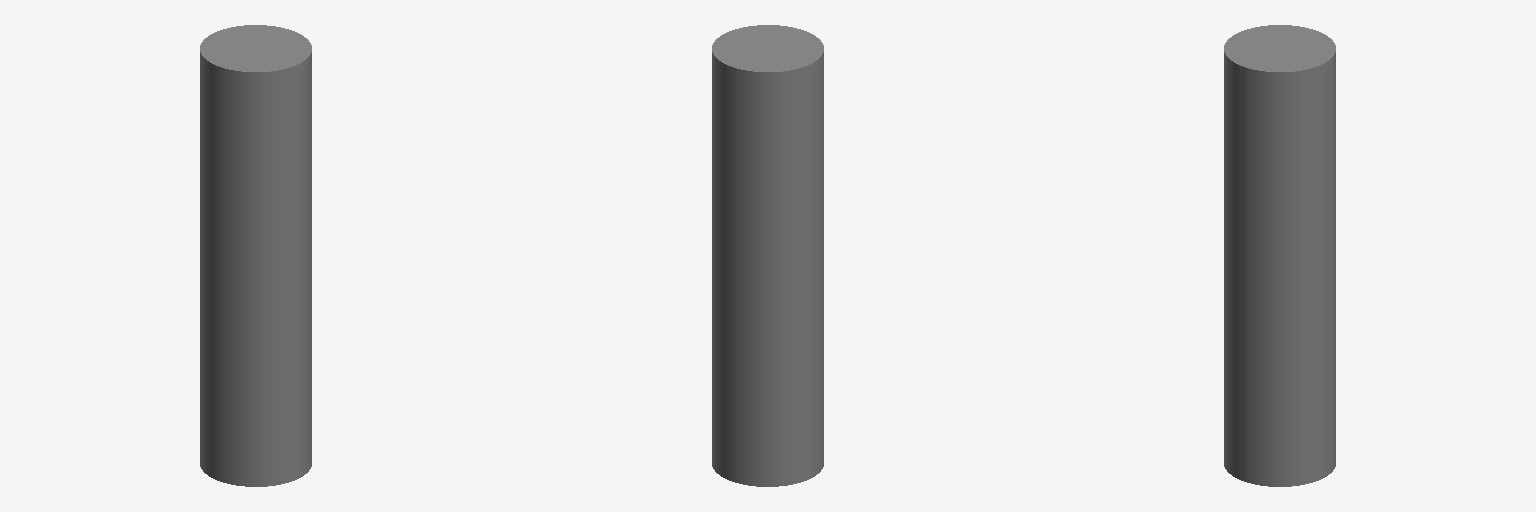
File: Cilindro2.obj
The picture shows the model from 3 angles: view 1: azimuth 30°, elevation 25°; view 2: azimuth 150°, elevation 25°; view 3: azimuth 270°, elevation 25°; orthographic projection.
Visible parts, largest first — view 1: mesh_id32; view 2: mesh_id32; view 3: mesh_id32.
Boxes of the visible parts, <box> form: mesh_id32: <box>200,25,311,486</box>; mesh_id32: <box>712,25,823,486</box>; mesh_id32: <box>1224,25,1335,486</box>.
Bounding box in the file's own units: 0.131 × 0.534 × 0.131.